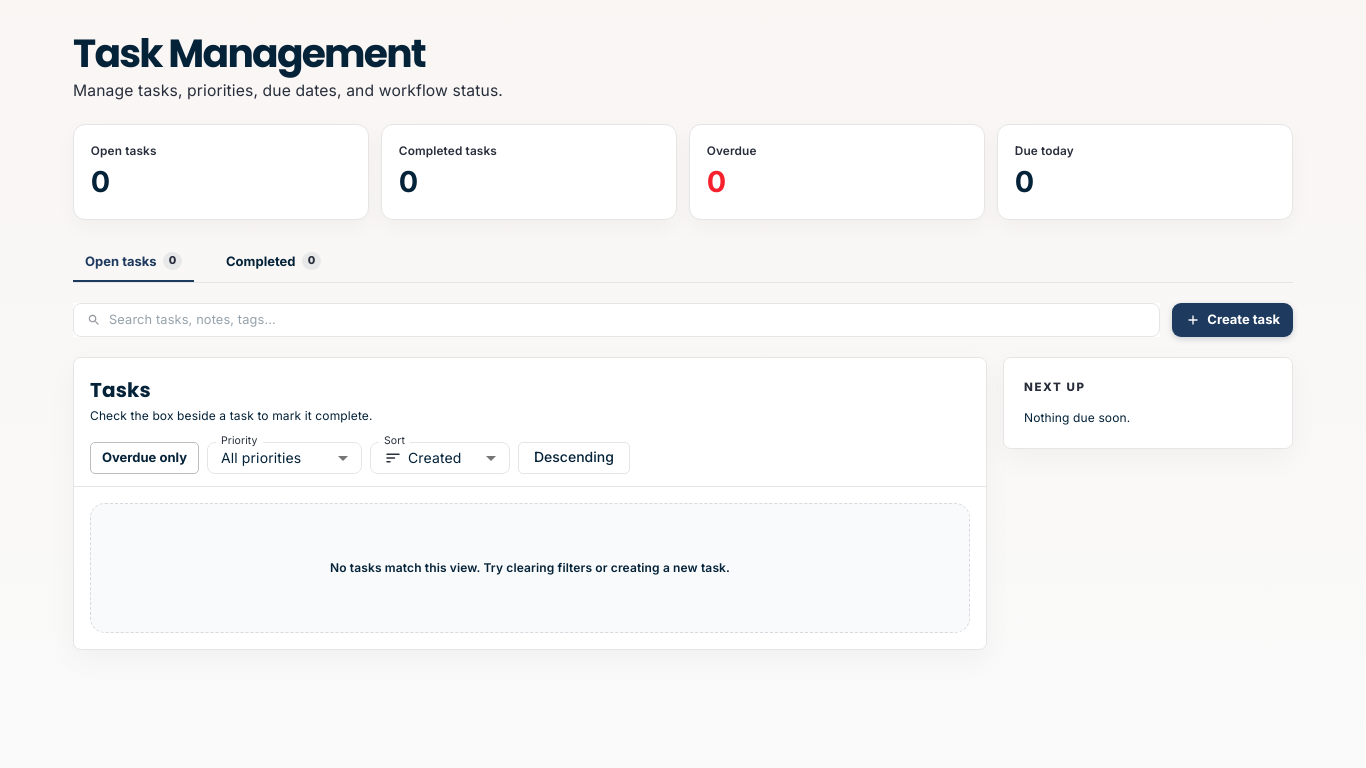
Test case: Task Management UI › keeps create form input in place when the API returns validation errors
expect the text "No tasks match this view. Try clearing filters or creating a new task." is shown: met, box 330,558 -> 730,578
Click the button "Create task" at coordinates (1233, 320), box 1172,303 -> 1293,337
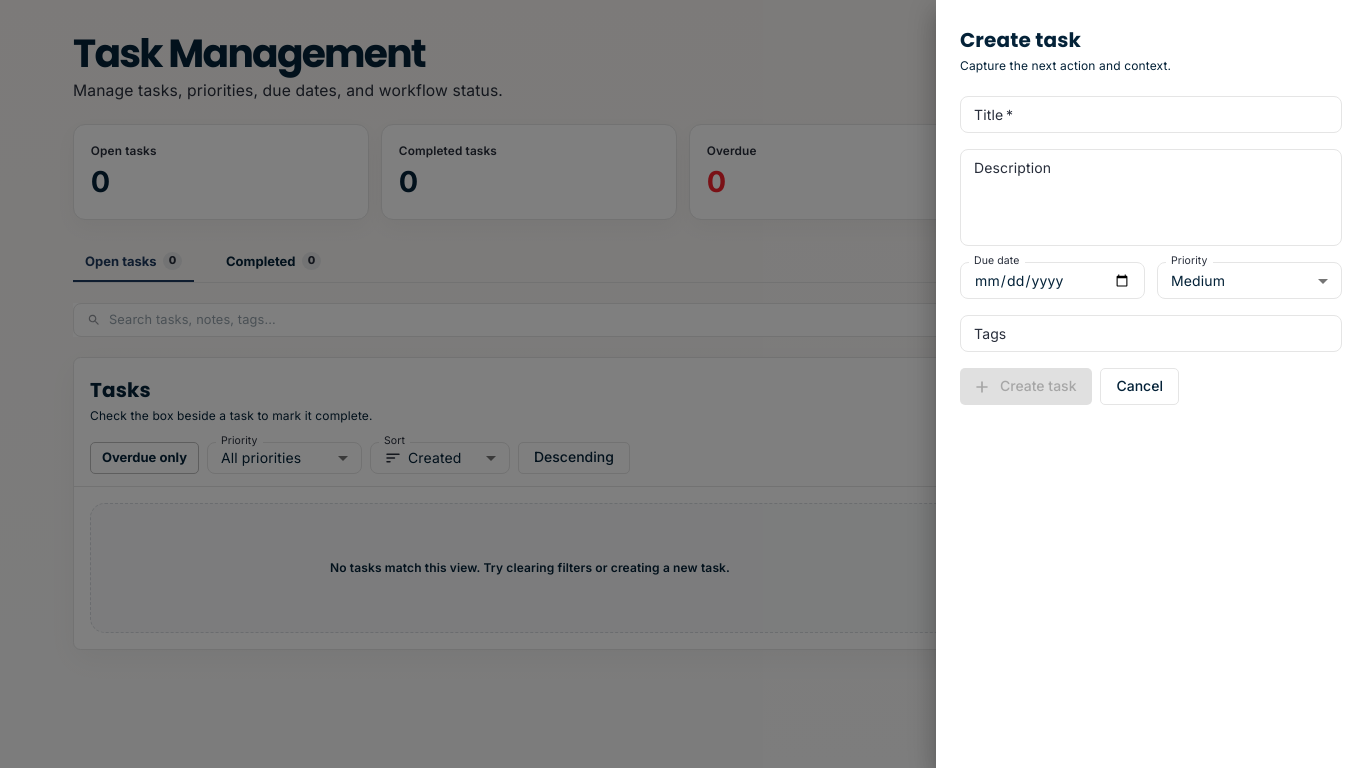
Type "Draft that should stay" into the field labelled "Title" at coordinates (1151, 114), box 960,96 -> 1342,133
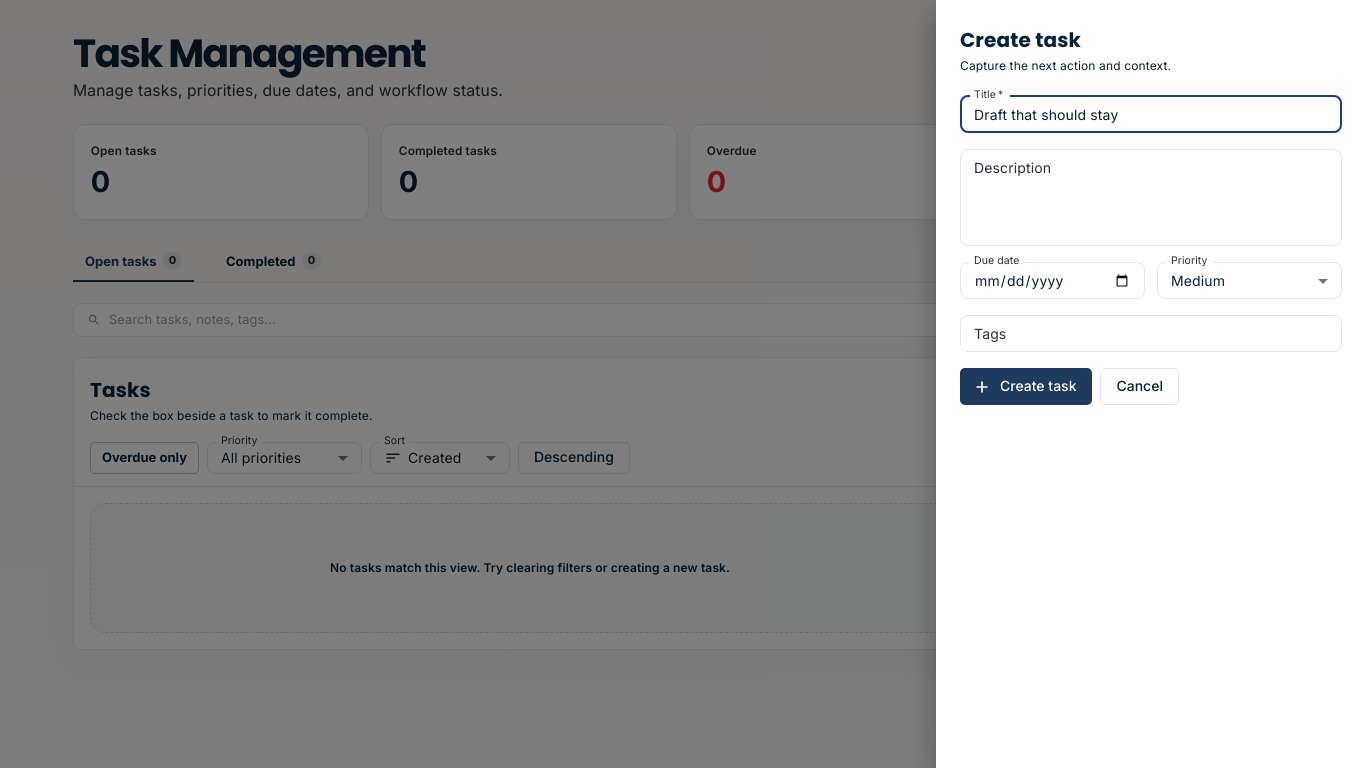
Click the button "Create task" at coordinates (1026, 387), box 960,368 -> 1092,405
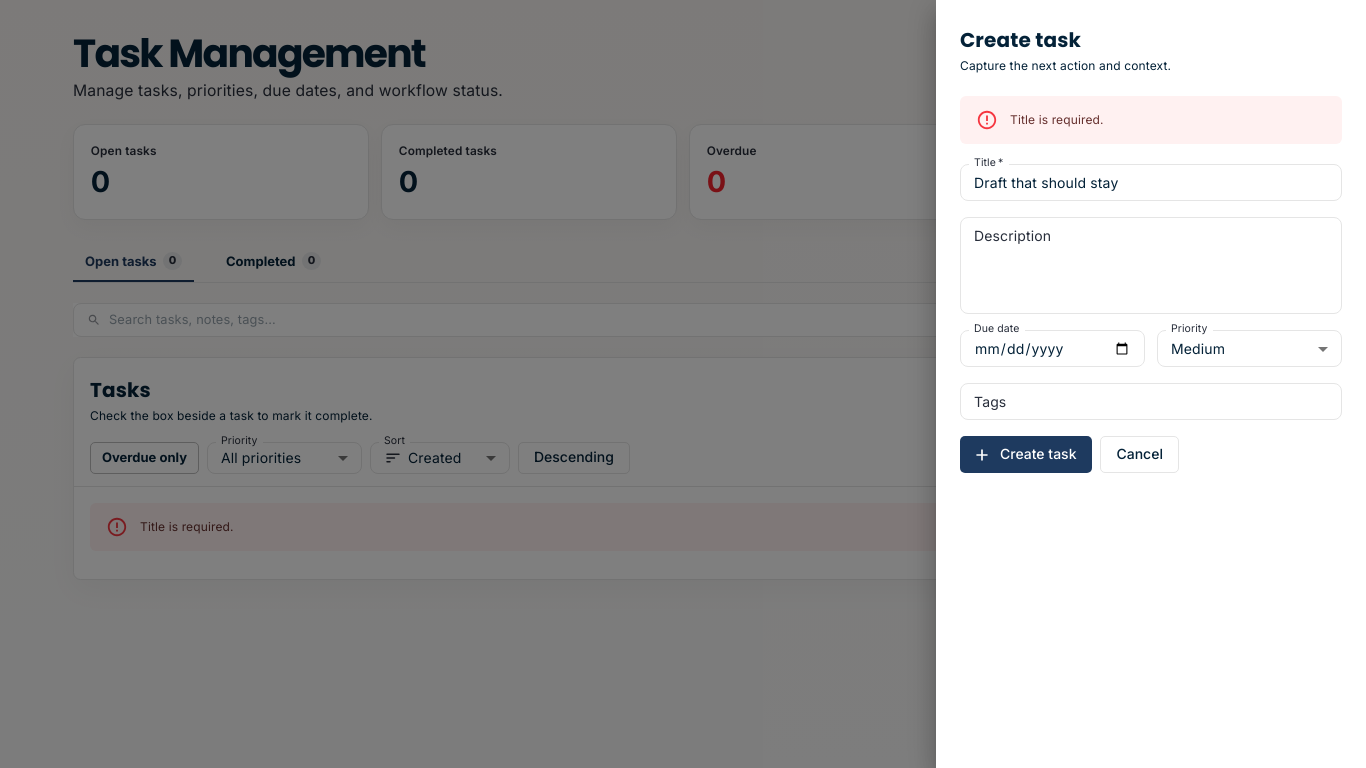
expect the message reads "Title is required.": met, box 1010,112 -> 1104,127
